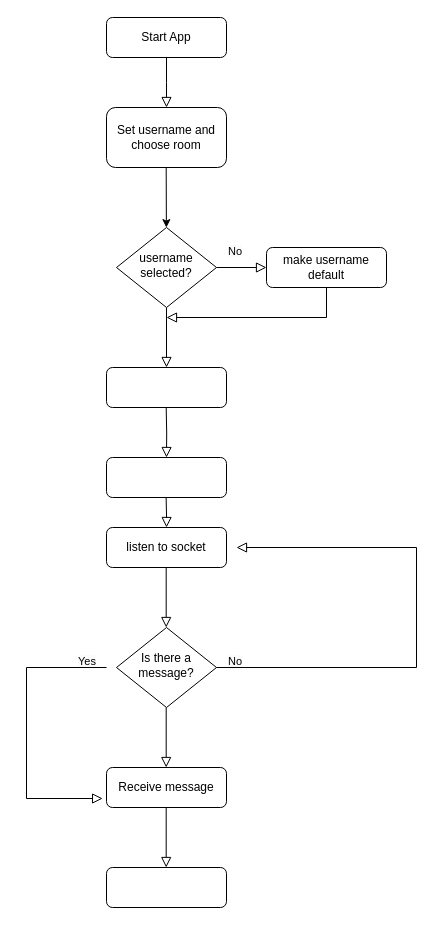
Some shapes in this 444 by 925 pixel diagram are drawn without their labels. Here are the shapes that lost their labels. From the top down, the box of each, then its label:
(106, 366, 226, 408): Connect to selected room
(106, 456, 226, 498): send message
(106, 866, 226, 908): Show message
